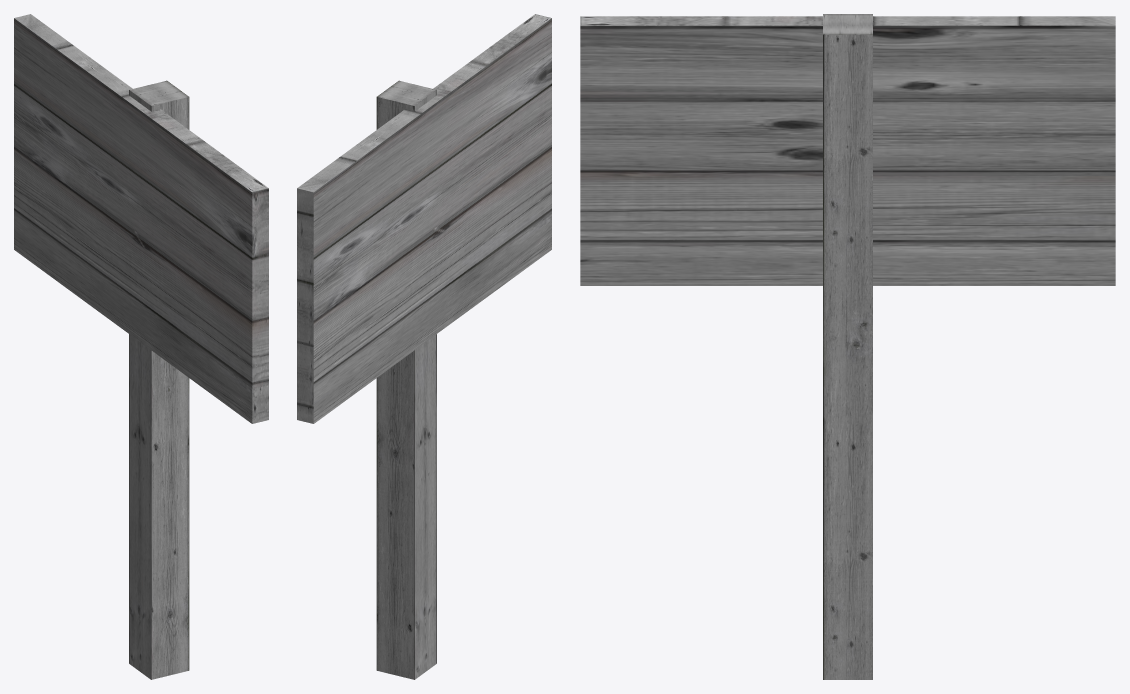
Rendered from wooden_sign.fbx.
3 renders of one model, left to right at view 1: azimuth 30°, elevation 25°; view 2: azimuth 150°, elevation 25°; view 3: azimuth 270°, elevation 25°, orthographic. The views are drawn at different scales.
Visible parts, largest first — view 1: wooden_sign; view 2: wooden_sign; view 3: wooden_sign.
Part boxes in pixels (x1=…): wooden_sign: x1=14, y1=14, x2=268, y2=679; wooden_sign: x1=297, y1=14, x2=551, y2=679; wooden_sign: x1=580, y1=14, x2=1115, y2=679.
Size of the model in its own units: 0.6753 by 8.23 by 6.19.
Materials: 1 (1 with a texture image).
